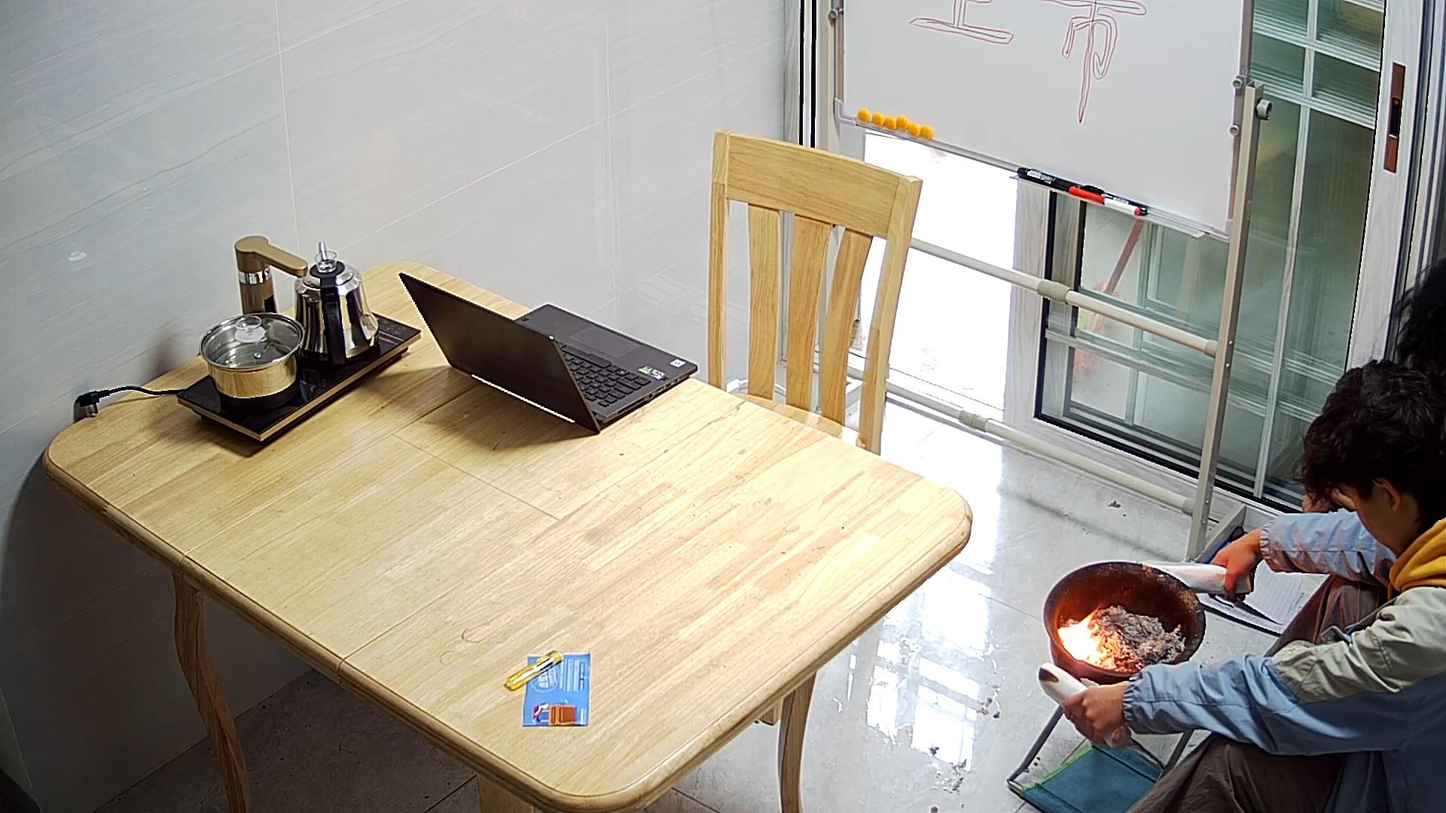fire: (1057, 618, 1119, 671)
